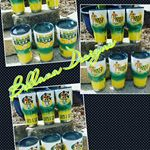cups: (54, 17, 79, 62), (8, 23, 35, 64), (30, 21, 57, 62), (129, 48, 150, 92), (108, 48, 129, 92), (86, 48, 107, 92)
